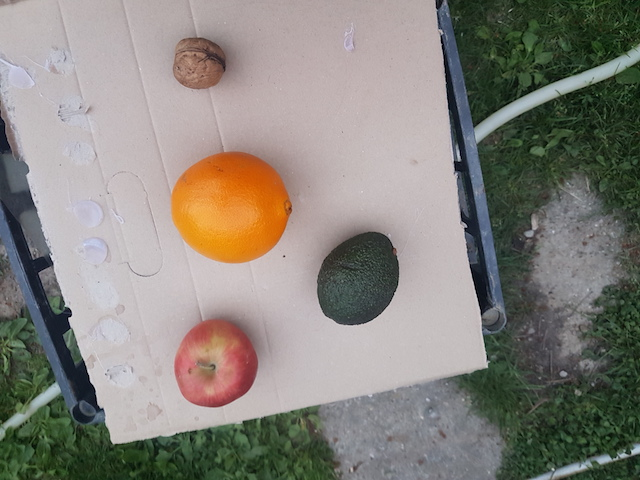apple: (174, 318, 258, 407)
avocado: (313, 232, 406, 330)
nut: (171, 33, 227, 91)
orange: (171, 148, 296, 266)
